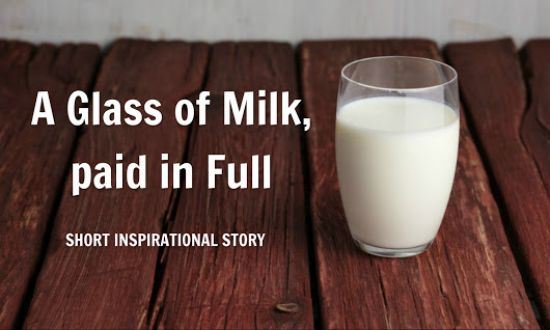glass of milk: (334, 71, 453, 252)
